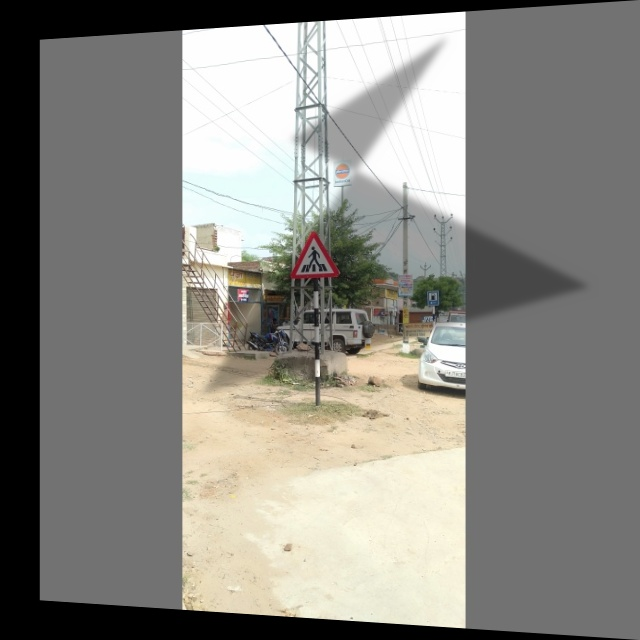Pedestrian_Crossing: (287, 228, 342, 283)
